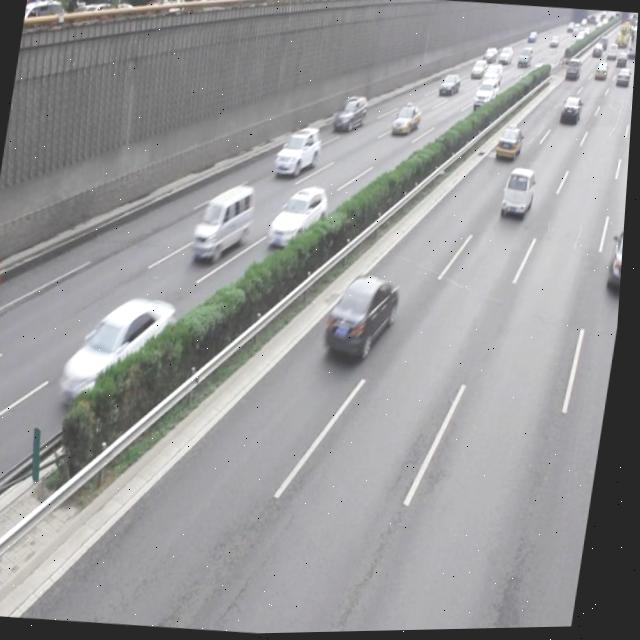car: (63, 289, 181, 408), (324, 270, 404, 363), (268, 183, 333, 255), (274, 125, 324, 181), (607, 229, 627, 294), (495, 124, 525, 165)
truck: (191, 180, 259, 265), (502, 167, 538, 219)
